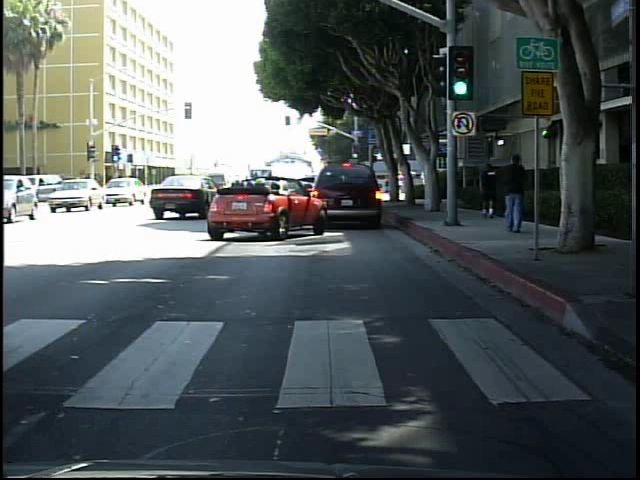person: (499, 147, 532, 237), (477, 157, 501, 222)
